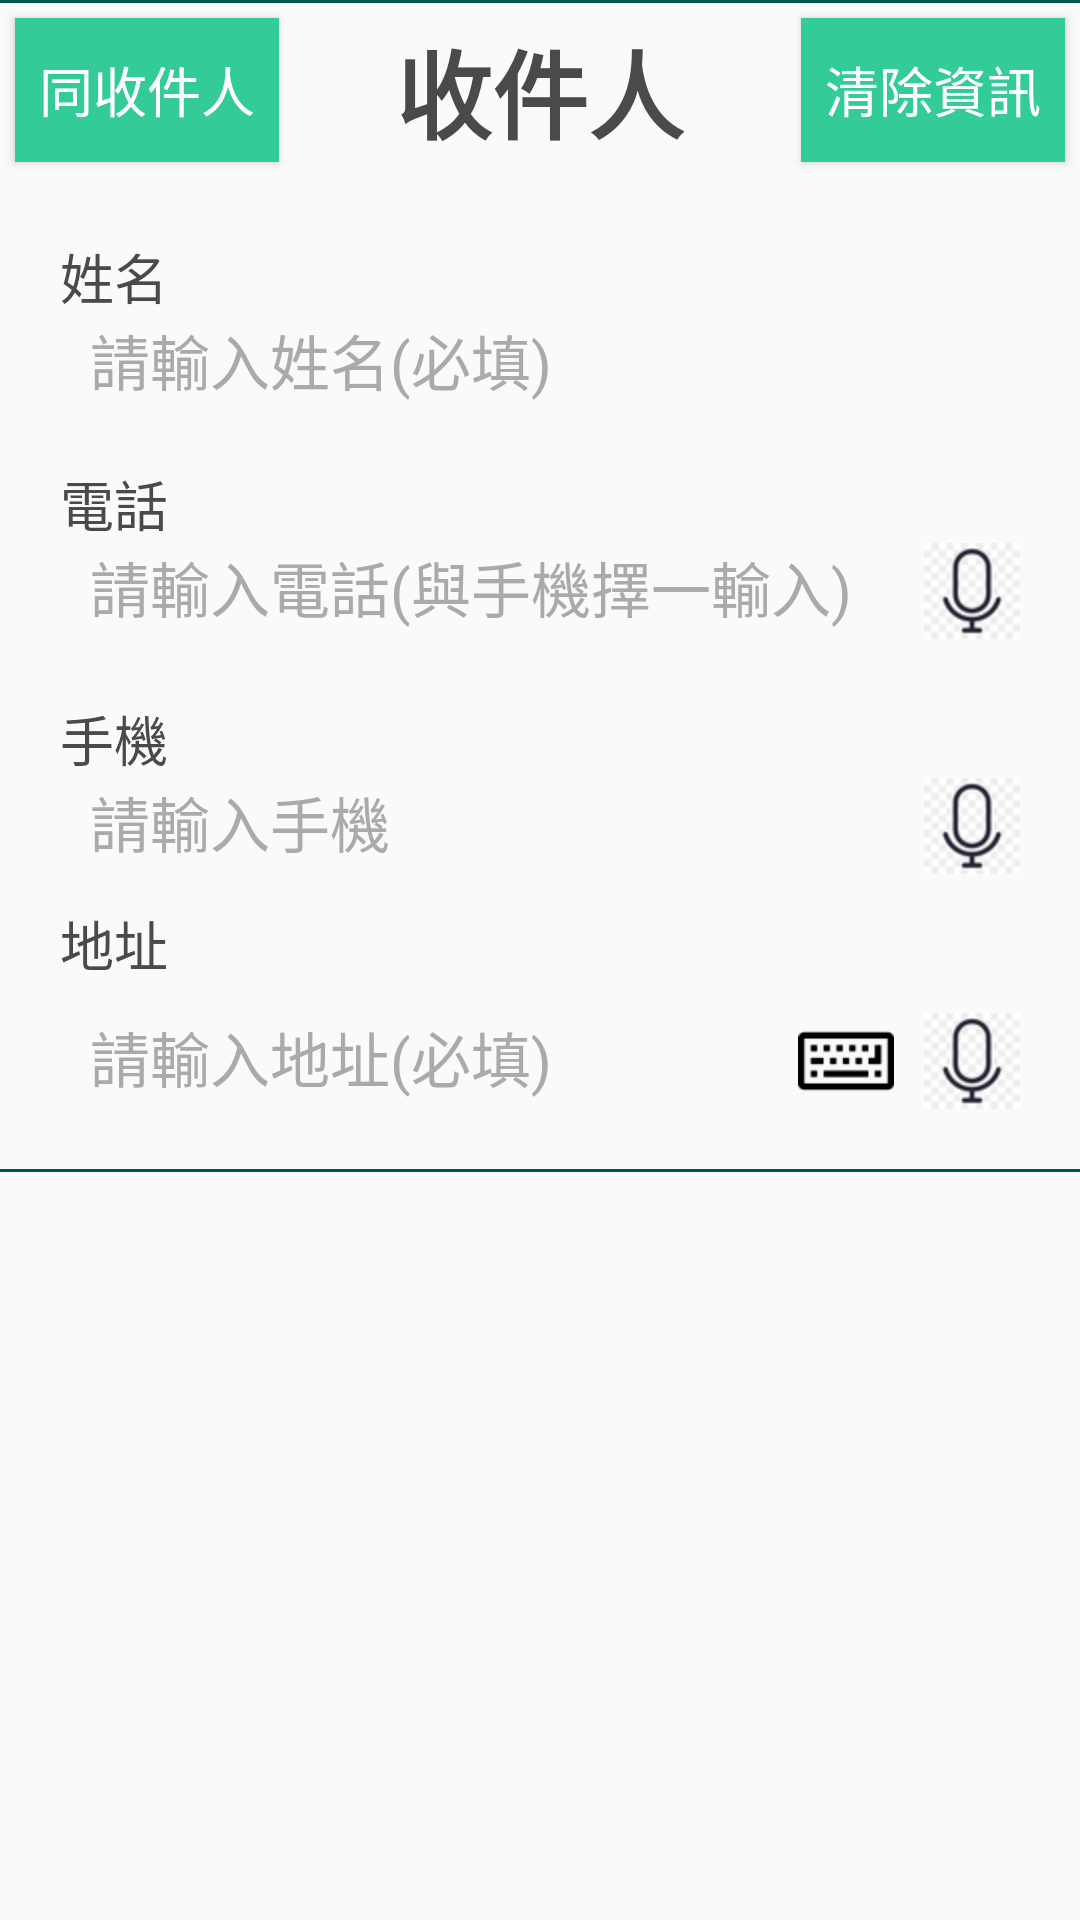

Icons on this 1080px×1920px Android screen, each with the point to tap as (x=x, y=y):
keyboard: (x=846, y=1061)
voice: (x=972, y=591), (x=972, y=826), (x=972, y=1061)
